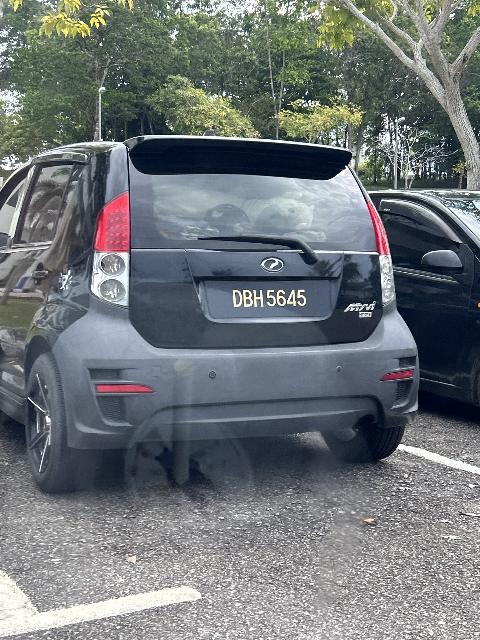DBH5645: (205, 278, 334, 323)
License_Plate: (205, 278, 334, 323)
car: (2, 129, 427, 500)
